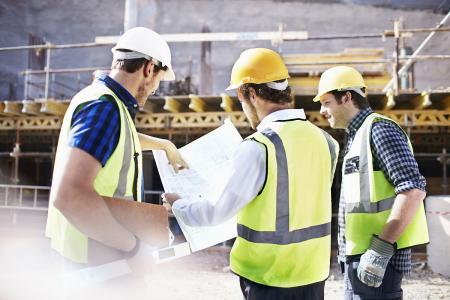gloves: (356, 234, 397, 288)
hard-hat: (111, 25, 175, 80), (225, 46, 289, 91), (313, 64, 368, 103)
person: (161, 46, 341, 299), (44, 25, 189, 275), (313, 64, 430, 299)
vest: (171, 108, 340, 295), (44, 72, 144, 265), (335, 106, 429, 298)
